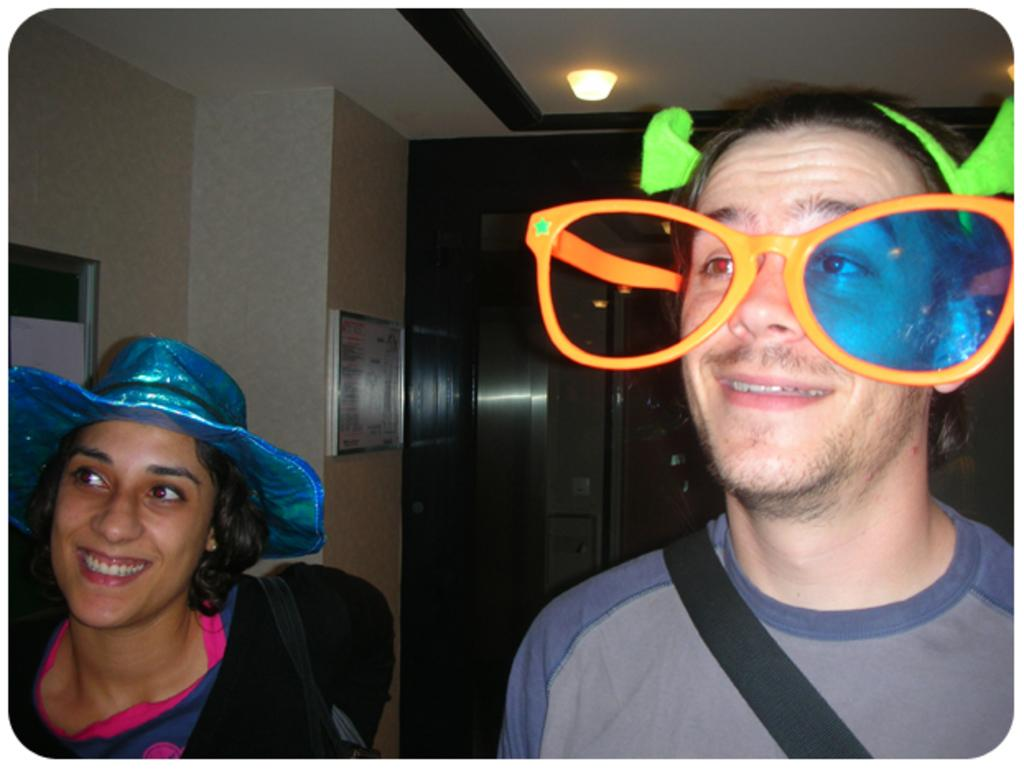Hat: (6, 332, 319, 558)
